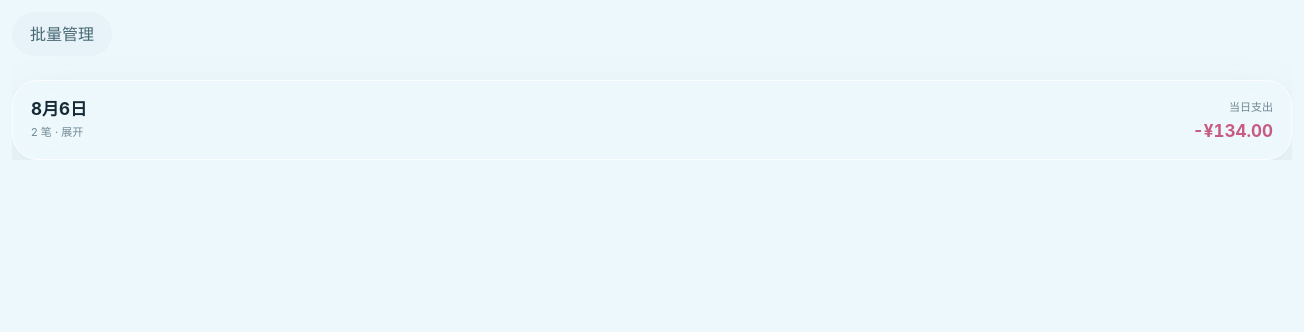
GroupedTransactions › renders one collapsed date card and expands its transactions
expect the text "麦当劳" is not shown: met
Click the button "8月6日 2 笔 · 展开 当日支出 -¥134.00" at (59,109), box [13, 81, 1291, 159]
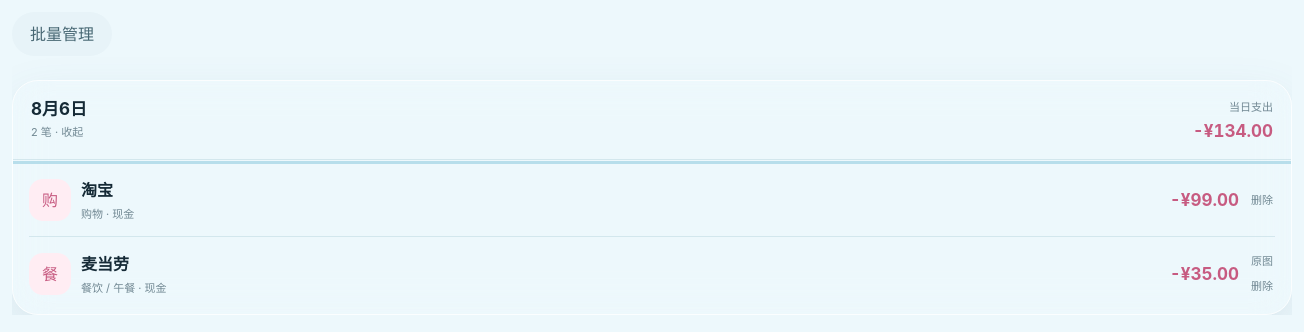
expect the text "麦当劳" is shown: met, box [81, 254, 129, 274]
expect the text "淘宝" is shown: met, box [81, 180, 113, 200]
